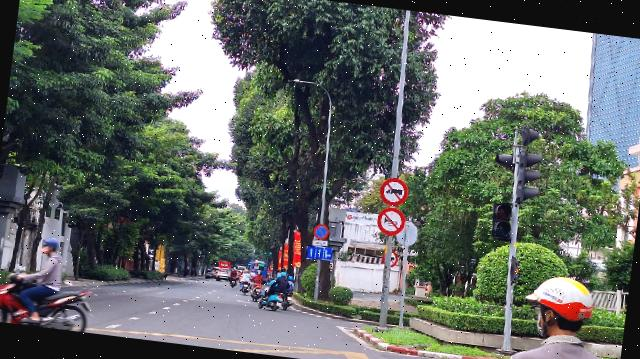cam-bop-coi: (376, 205, 406, 237)
cam-do-xe: (312, 222, 330, 240)
